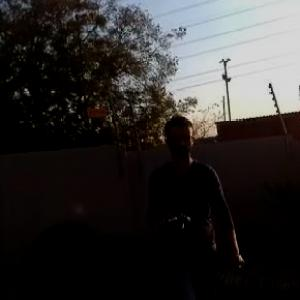follow: (140, 111, 256, 299)
